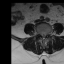CCS_normal: (42, 32, 44, 40)
LFS_stenosis: (47, 31, 49, 36)
LLS_stenosis: (45, 32, 46, 38)
RFS_stenosis: (39, 31, 41, 36)
RLS_severe_stenosis: (41, 32, 42, 38)
